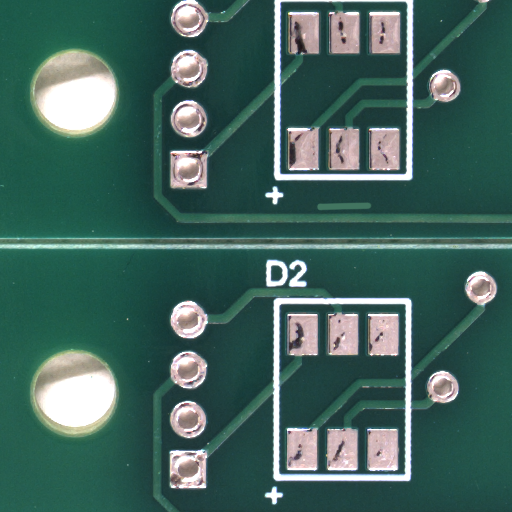Spurious_copper: (344, 206, 405, 216)
